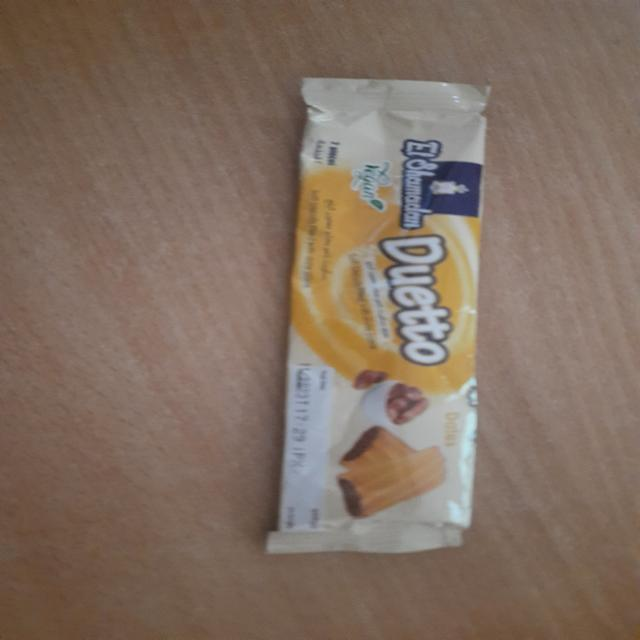trash: (192, 52, 538, 596)
